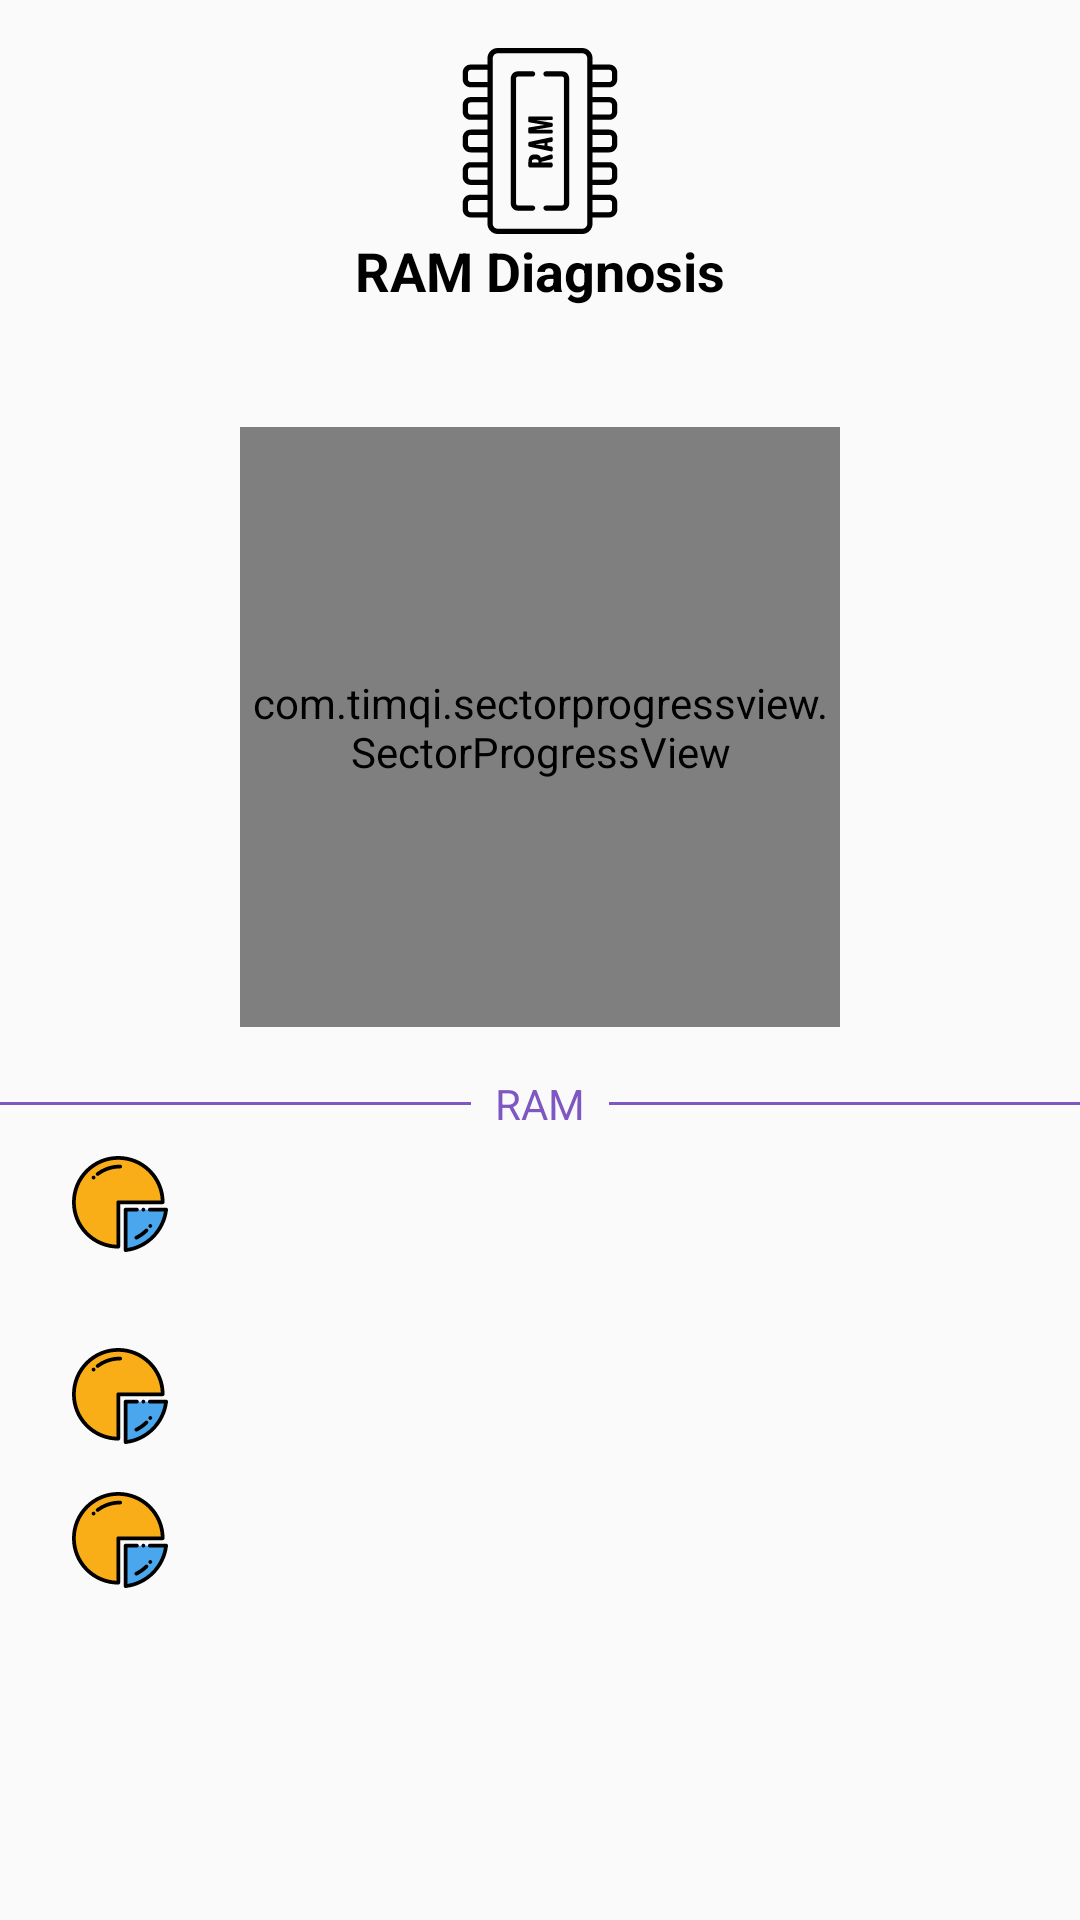

Named icons in this screenshot (1080*1920) and their bounding boxes, (x1,y1,x2,y2):
piechart: (72,1156,168,1252), (72,1348,168,1444), (72,1492,168,1588)
